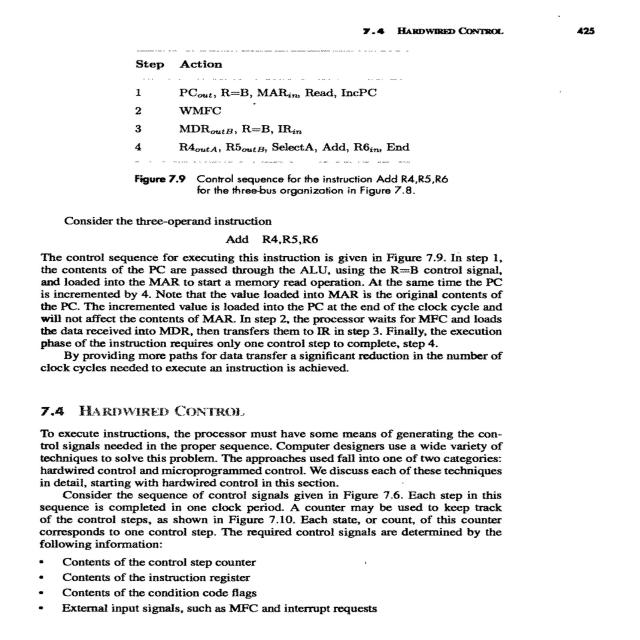diagram: (66, 47, 606, 199)
